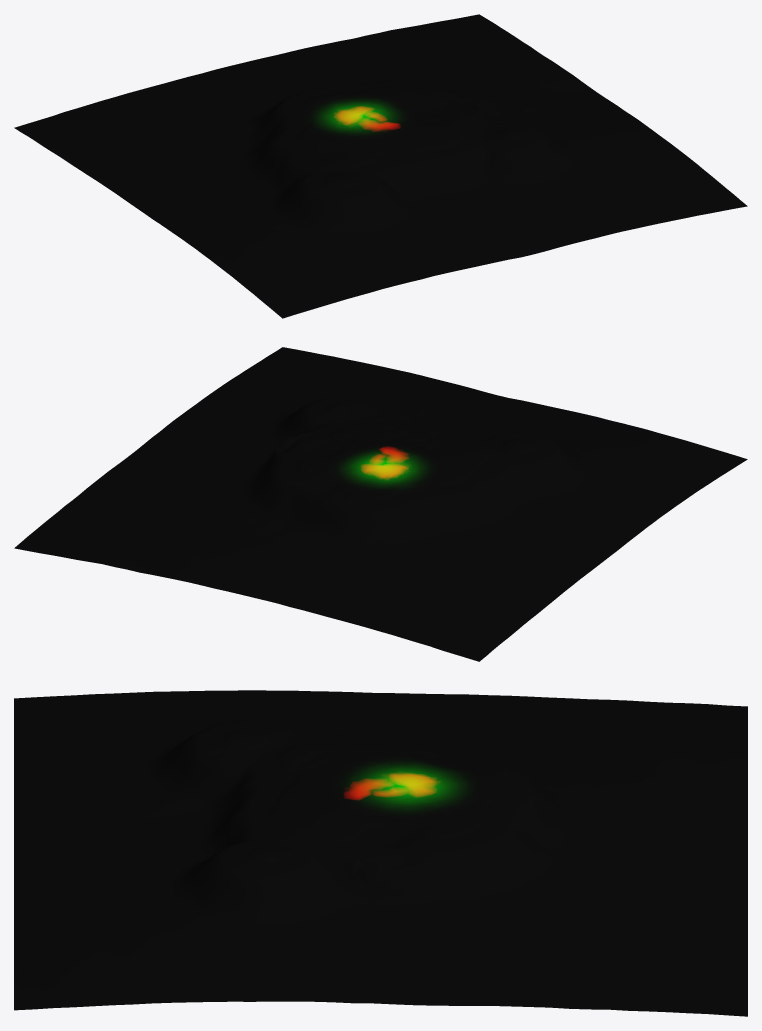
The model's file is haven_terrain.glb.
The picture shows the model from 3 angles, top to bottom: view 1: azimuth 30°, elevation 25°; view 2: azimuth 150°, elevation 25°; view 3: azimuth 270°, elevation 25°; orthographic projection. The views are drawn at different scales.
Visible parts, largest first — view 1: haven_terrain; view 2: haven_terrain; view 3: haven_terrain.
Part boxes in pixels (x1,y1,x2,y2): haven_terrain: (14,14,747,318); haven_terrain: (14,347,747,661); haven_terrain: (14,690,747,1016).
Bounding box in the file's own units: 259 × 26.84 × 259.
